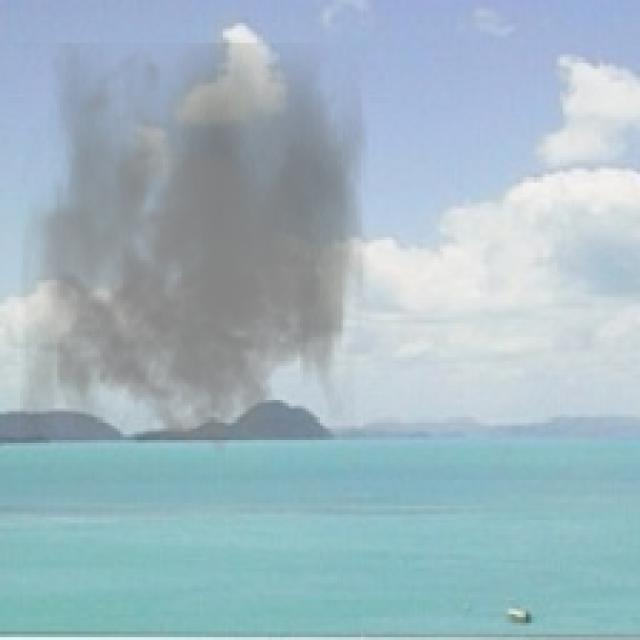smoke: (20, 43, 369, 454)
